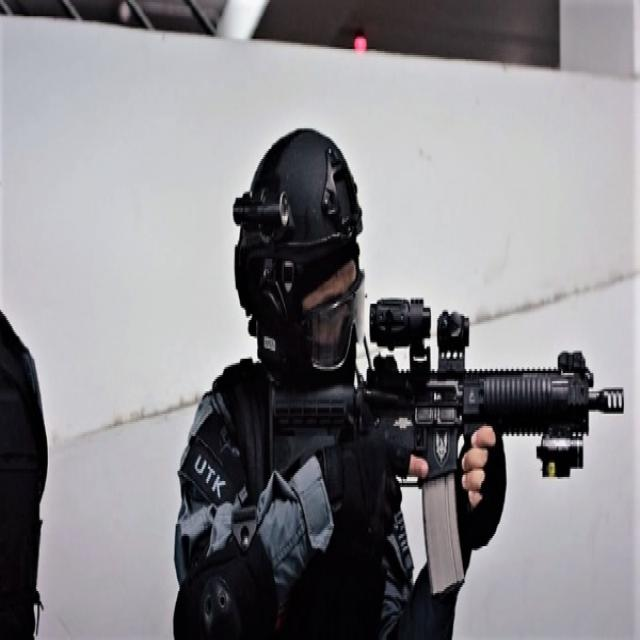rifle: (266, 284, 633, 598)
